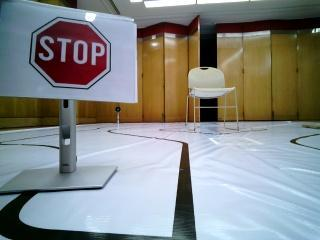stop: (12, 6, 132, 94)
